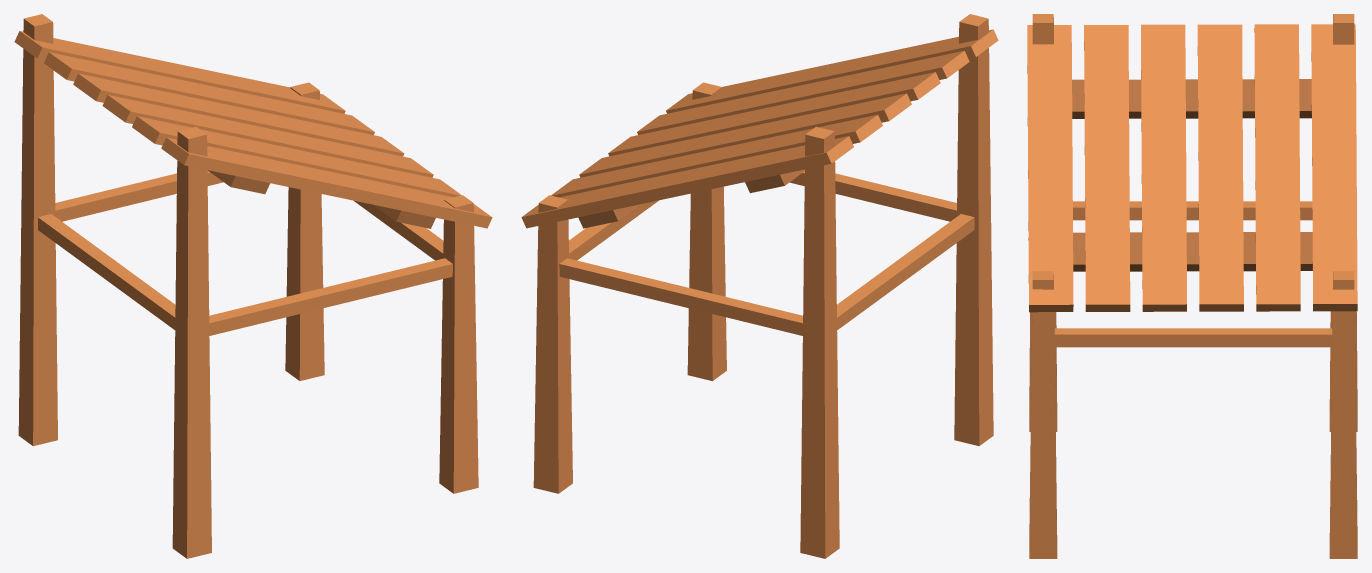
File: structureRoof.dae
The picture shows the model from 3 angles, left to right: view 1: azimuth 30°, elevation 25°; view 2: azimuth 150°, elevation 25°; view 3: azimuth 270°, elevation 25°; orthographic projection. The views are drawn at different scales.
Parts seen in each view (by area): view 1: structureRoof; view 2: structureRoof; view 3: structureRoof.
Boxes of the visible parts, bbox=[...] form: structureRoof: bbox=[14, 14, 492, 558]; structureRoof: bbox=[521, 14, 998, 558]; structureRoof: bbox=[1027, 14, 1357, 558].
Size of the model in its own units: 0.5328 by 0.6845 by 0.503.
